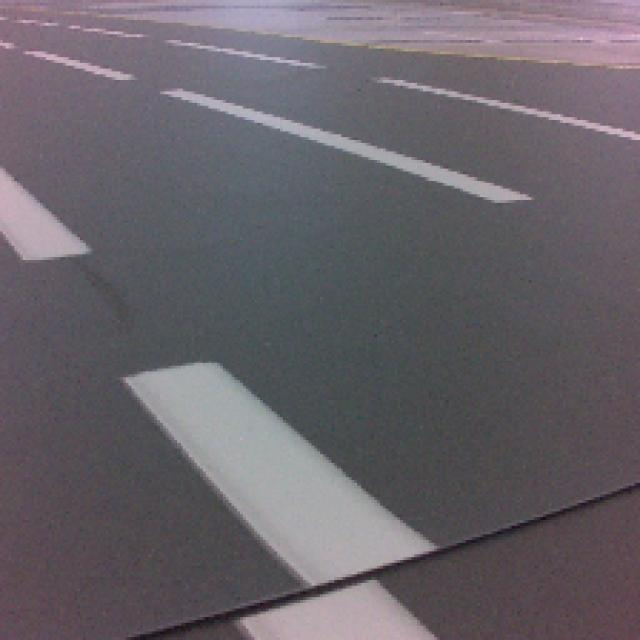Pedestrian crosswalk: (125, 358, 435, 586), (244, 575, 448, 640)
